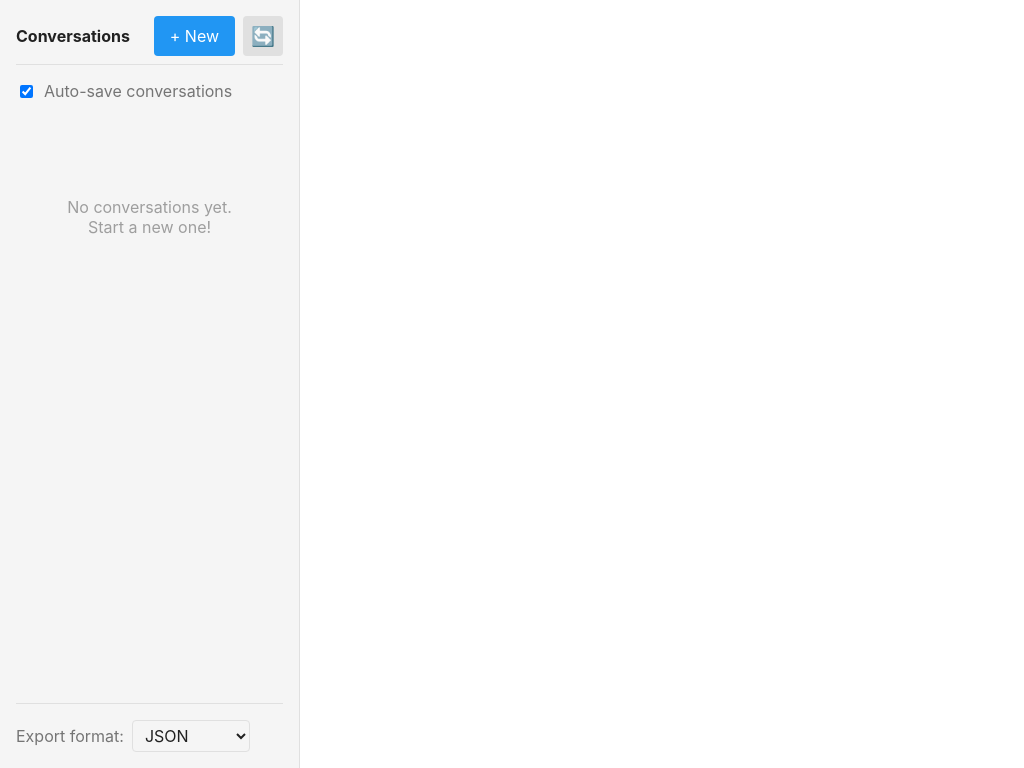
Database-UI Integration Tests › Error Handling › should validate data before saving
Open new conversation dialog
Click the button with aria-label "Create new conversation". click: click(194, 36)
box: x1=154 y1=16 x2=235 y2=56
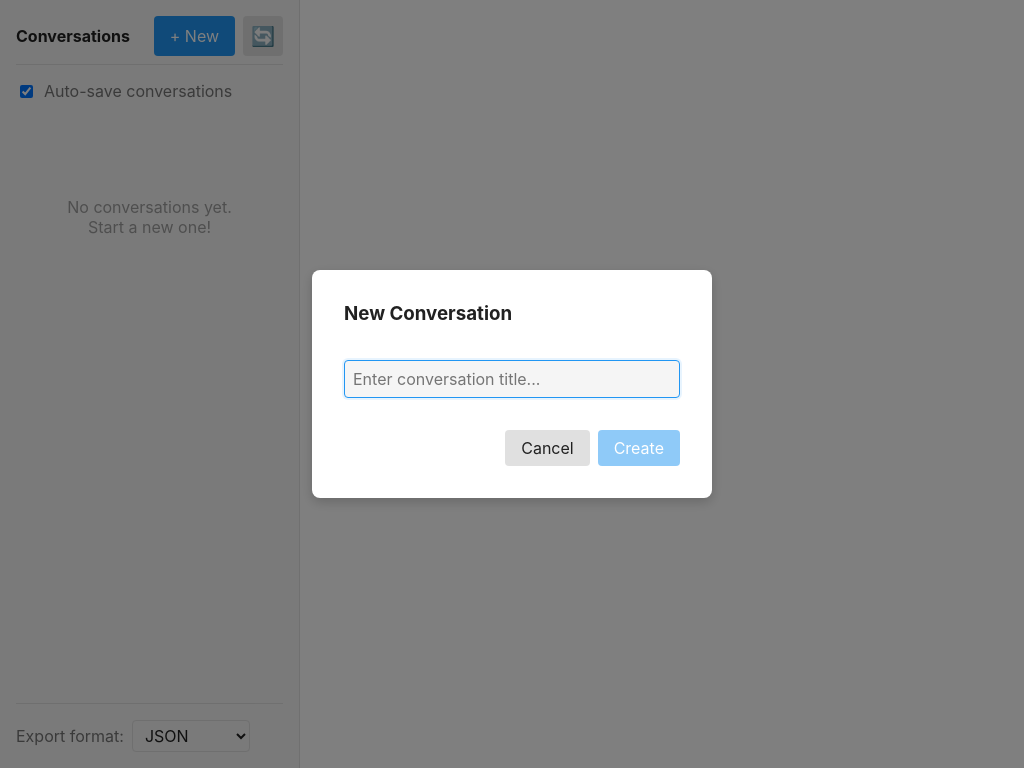
Check: the button "Create" is disabled, box x1=598 y1=430 x2=680 y2=466
